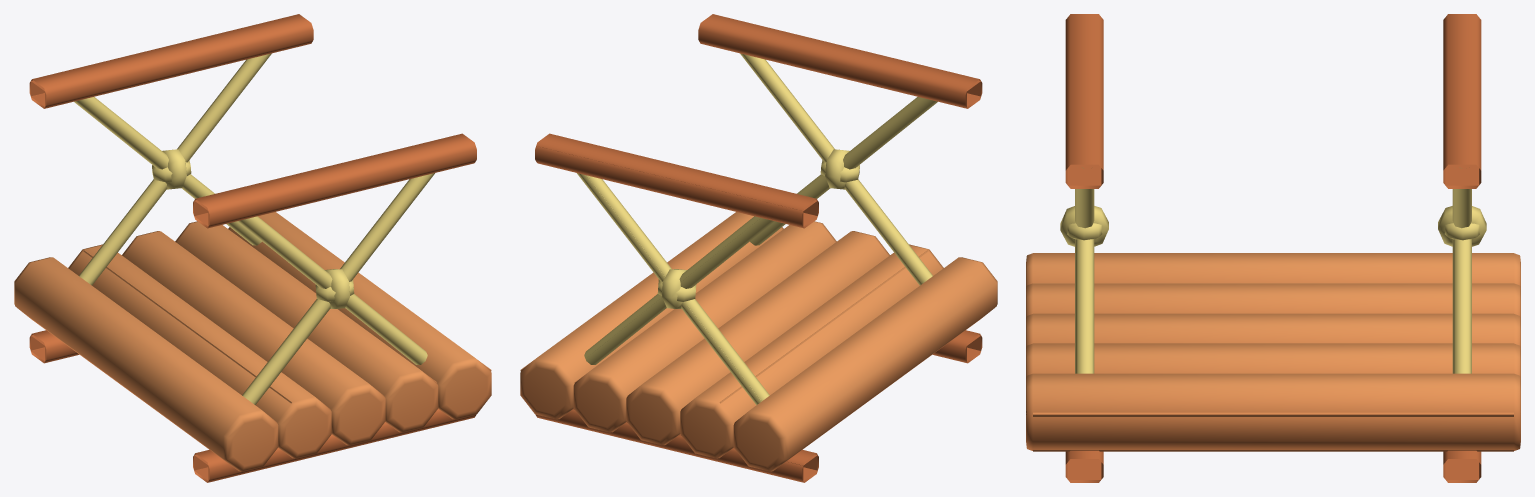
File: bridge_tile.fbx
3 views of the same model, side by side, from view 1: azimuth 30°, elevation 25°; view 2: azimuth 150°, elevation 25°; view 3: azimuth 270°, elevation 25° (orthographic). The views are drawn at different scales.
Parts seen in each view (by area): view 1: bridge_tile, bridge_tile low; view 2: bridge_tile, bridge_tile low; view 3: bridge_tile, bridge_tile low.
Boxes of the visible parts, x1,y1,x2,y2 form: bridge_tile: (14, 14, 491, 482); bridge_tile low: (30, 80, 491, 480); bridge_tile: (520, 14, 997, 482); bridge_tile low: (520, 80, 981, 480); bridge_tile: (1026, 14, 1520, 482); bridge_tile low: (1033, 164, 1513, 479).
Bounding box in the file's own units: 100 × 98.4 × 139.
1 material, 1 textured.
